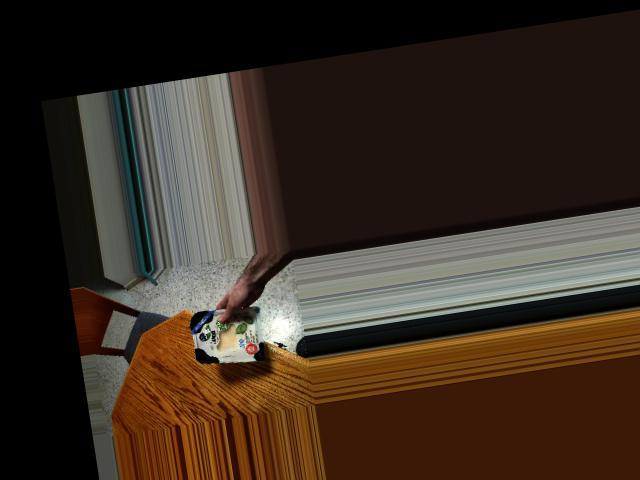cheese: (177, 303, 279, 372)
